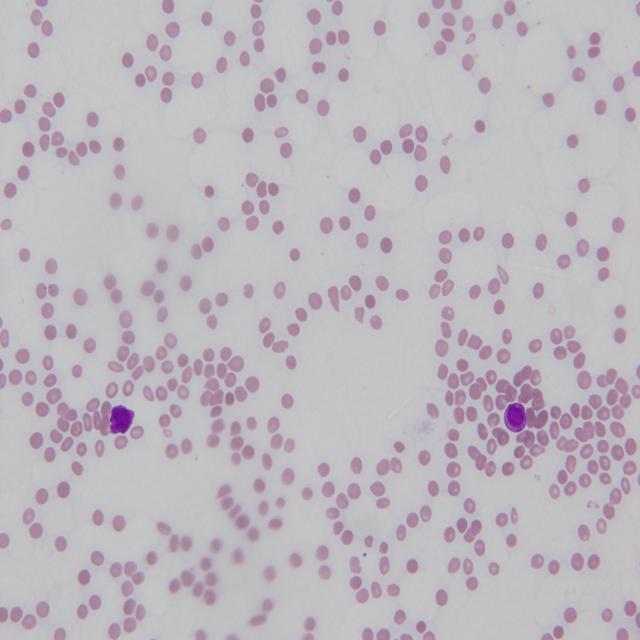cell: (110, 405, 134, 434), (504, 403, 526, 432)
